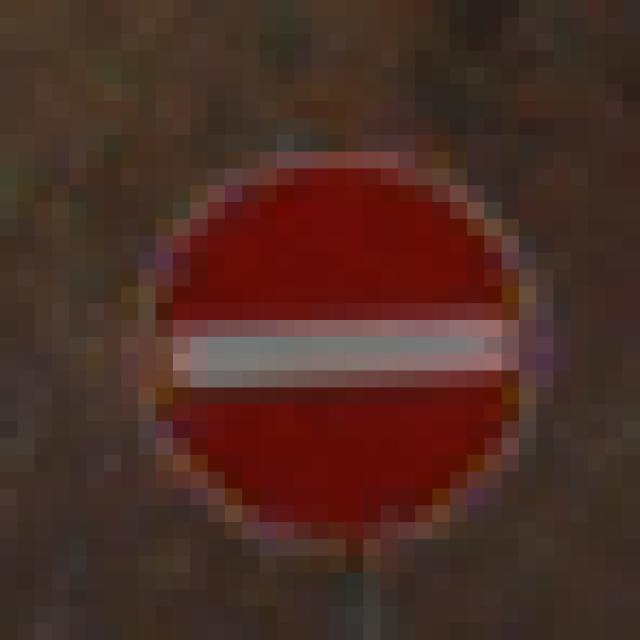No Entry: (88, 85, 555, 557)
